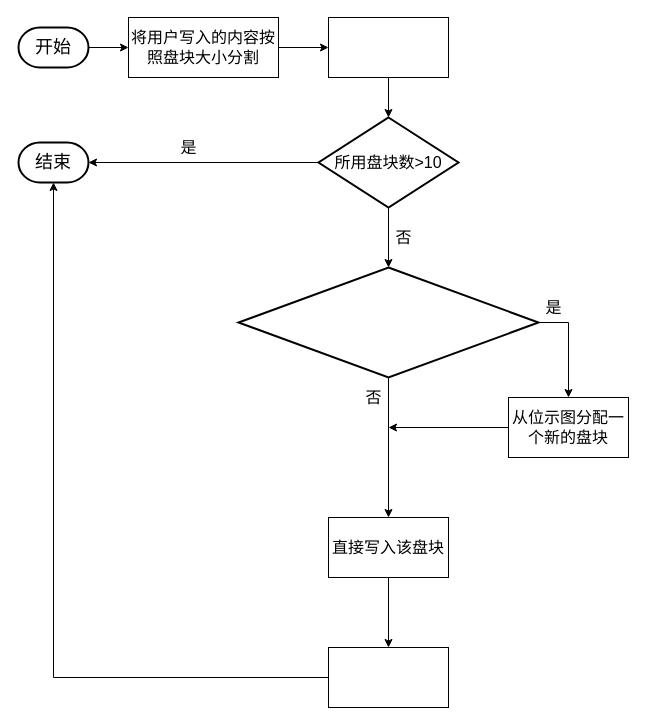
Image size: 646x725. Some labels were removed from this diagram. The shapes that lost their labels are listed below. From the top down, each one's centre as x and y in pixels, then its label:
At (388,47): "获得盘块数量".
At (388,322): "该索引节点的盘块数<所需盘块数".
At (388,677): "从位示图中释放多余的盘块".
